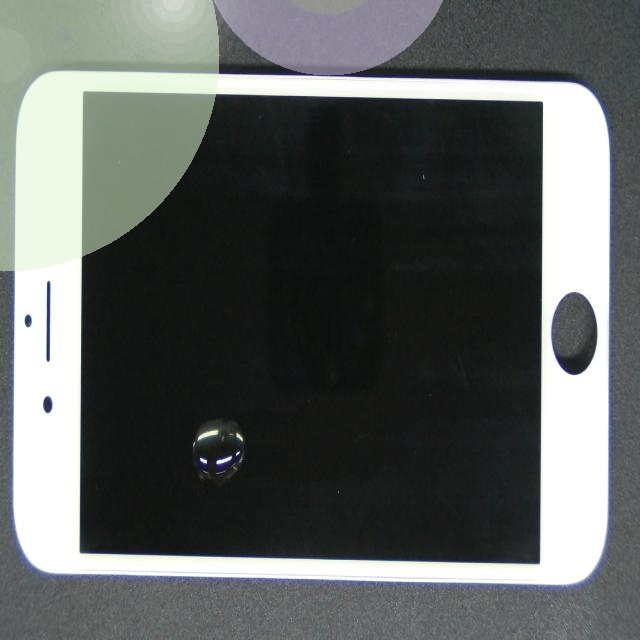oil: (119, 200, 304, 633)
